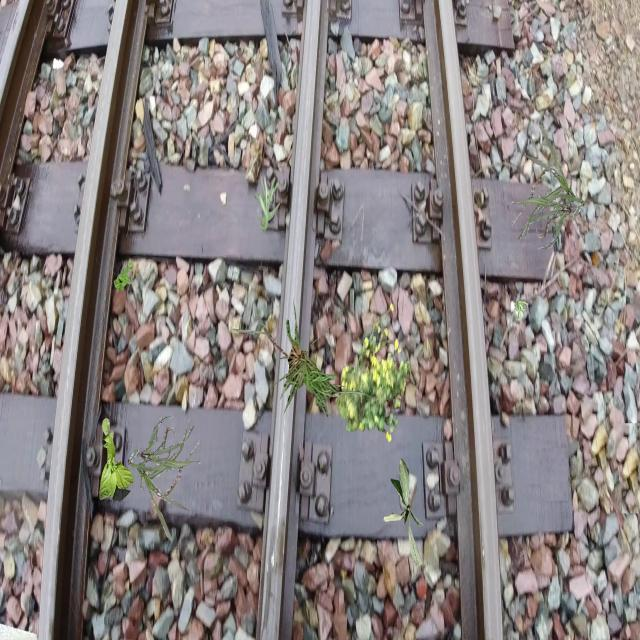Plant: (232, 298, 376, 418), (335, 303, 410, 443), (128, 417, 201, 542), (512, 124, 585, 248), (384, 458, 424, 568), (99, 418, 134, 502), (254, 175, 280, 232), (114, 262, 134, 294), (515, 301, 529, 322)
